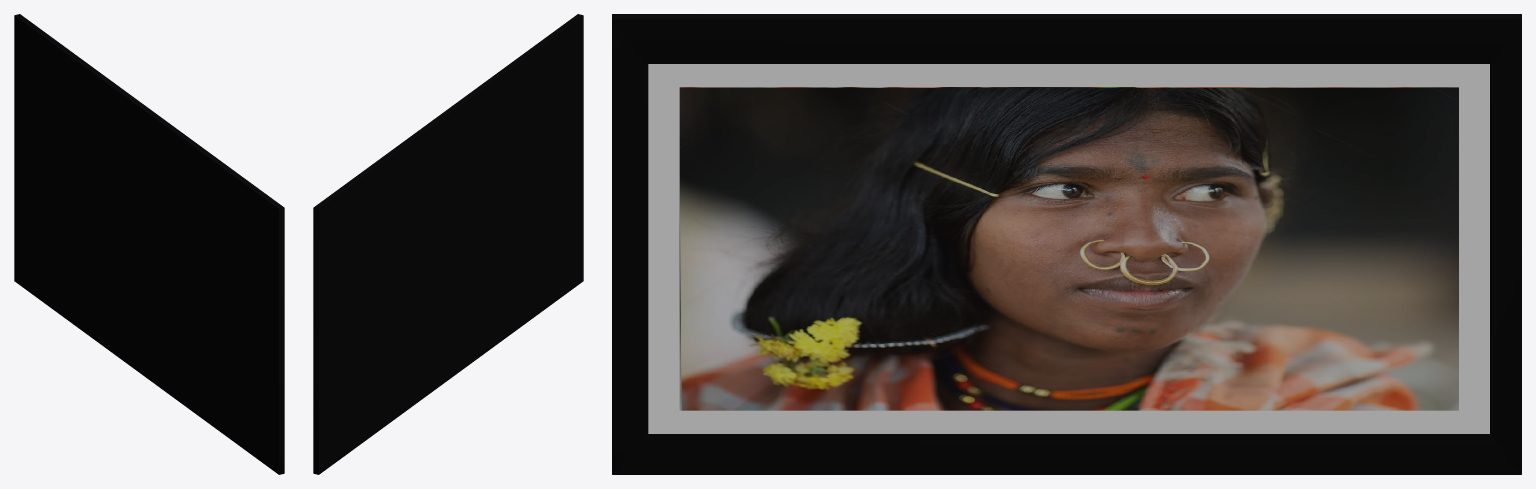
File: Frame.fbx
The picture shows the model from 3 angles, left to right: view 1: azimuth 30°, elevation 25°; view 2: azimuth 150°, elevation 25°; view 3: azimuth 270°, elevation 25°; orthographic projection. The views are drawn at different scales.
Visible parts, largest first — view 1: Box046.001; view 2: Box046.001; view 3: Box046.001.
Boxes of the visible parts, <box> form: Box046.001: <box>14,14,284,474</box>; Box046.001: <box>313,14,583,474</box>; Box046.001: <box>612,14,1521,474</box>.
Bounding box in the file's own units: 6.3 × 269 × 486.
Materials: 3 (1 with a texture image).
